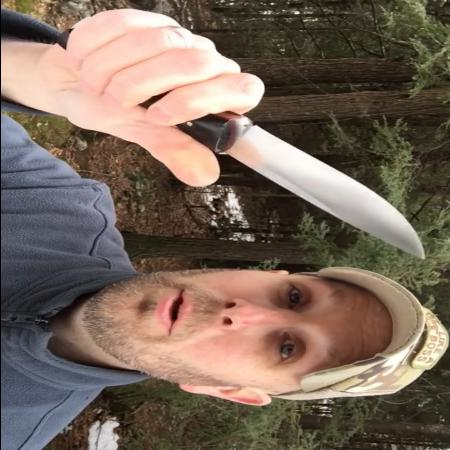long weapon: (118, 70, 430, 262)
